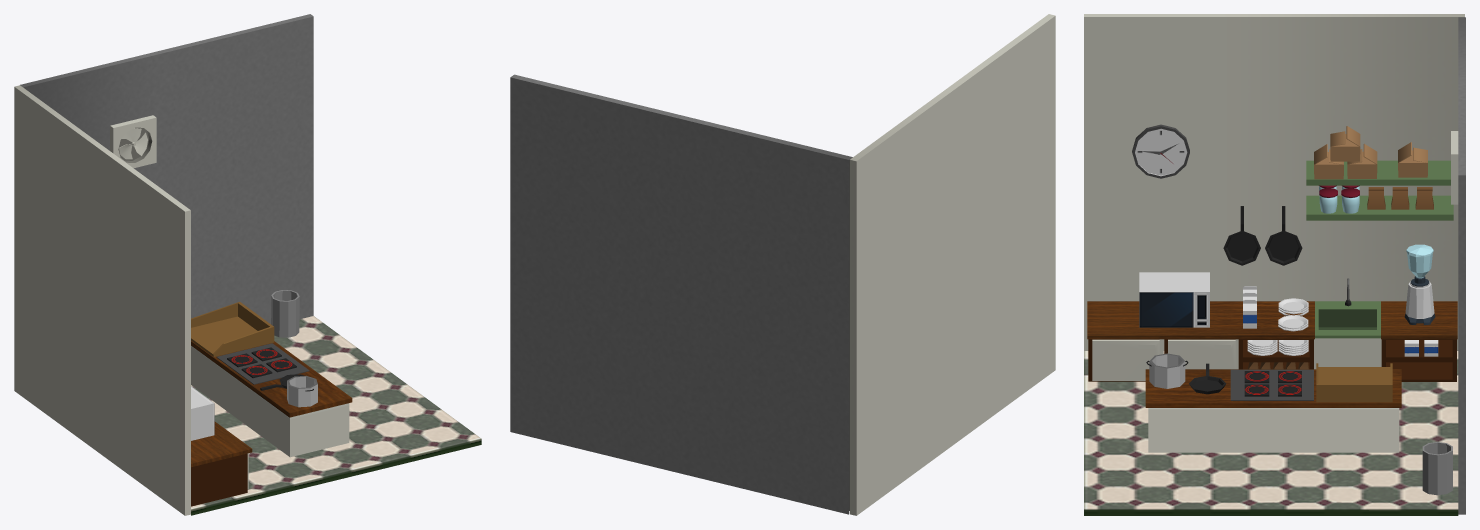
The model's file is Tx_Interior_Work_KitchenT1.fbx.
3 renders of one model, left to right at view 1: azimuth 30°, elevation 25°; view 2: azimuth 150°, elevation 25°; view 3: azimuth 270°, elevation 25°, orthographic. The views are drawn at different scales.
Visible parts, largest first — view 1: polySurface1046, polySurface1047, polySurface1048, polySurface1059, polySurface1036, polySurface1067, polySurface1066, polySurface1035, polySurface1039, pasted__polySurface186, polySurface1062, polySurface999 (+2 smaller); view 2: polySurface1047, polySurface1046; view 3: polySurface1046, polySurface1048, polySurface1059, polySurface1039, polySurface1047, polySurface999, polySurface1036, polySurface1041, polySurface1045, polySurface1042, Tx_prop_clock_9, polySurface1040 (+21 smaller).
Boxes of the visible parts, box(x1,y1,x2,y2) form: polySurface1046: box(14, 85, 190, 515); polySurface1047: box(20, 14, 313, 323); polySurface1048: box(191, 316, 481, 515); polySurface1059: box(191, 341, 352, 457); polySurface1036: box(191, 453, 248, 506); polySurface1067: box(191, 301, 274, 354); polySurface1066: box(191, 316, 274, 356); polySurface1035: box(110, 115, 156, 168); polySurface1039: box(191, 421, 252, 467); pasted__polySurface186: box(271, 290, 299, 337); polySurface1062: box(216, 343, 309, 384); polySurface999: box(191, 386, 214, 440); polySurface1047: box(510, 74, 852, 514); polySurface1046: box(849, 14, 1055, 515); polySurface1046: box(1084, 14, 1464, 350); polySurface1048: box(1084, 351, 1458, 515); polySurface1059: box(1145, 369, 1401, 452); polySurface1039: box(1087, 301, 1314, 339); polySurface1047: box(1458, 17, 1465, 514); polySurface999: box(1139, 272, 1209, 327); polySurface1036: box(1088, 339, 1163, 381); polySurface1041: box(1381, 339, 1456, 381); polySurface1045: box(1306, 195, 1453, 220); polySurface1042: box(1315, 301, 1380, 338); Tx_prop_clock_9: box(1132, 124, 1189, 178); polySurface1040: box(1381, 301, 1457, 339).
Bounding box in the file's own units: 22.75 × 22.39 × 22.75.
Materials: 1 (1 with a texture image).
